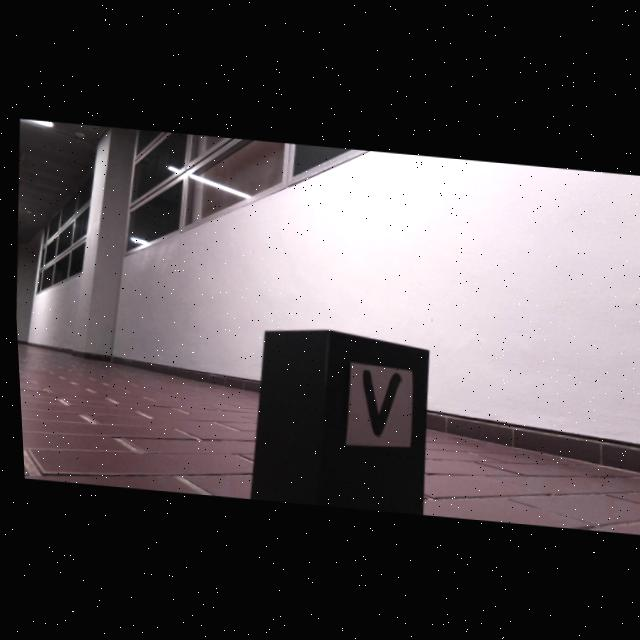V: (359, 369, 397, 434)
